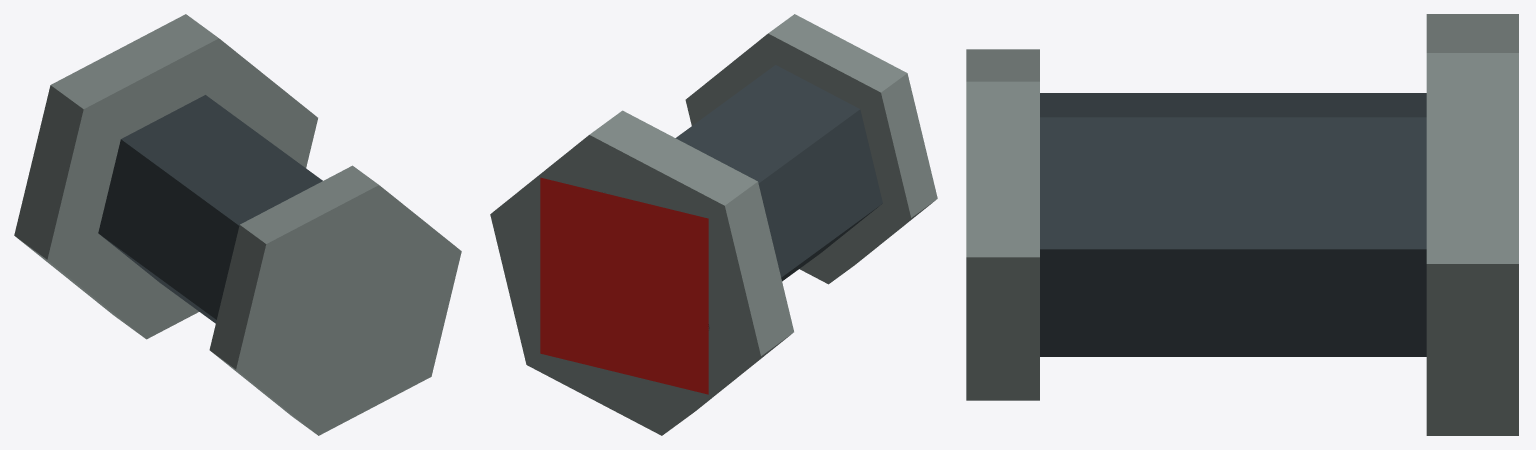
3 views of the same model, side by side, from view 1: azimuth 30°, elevation 25°; view 2: azimuth 150°, elevation 25°; view 3: azimuth 270°, elevation 25° (orthographic). The views are drawn at different scales.
Visible parts, largest first — view 1: mount; view 2: mount; view 3: mount.
Part boxes in pixels (x1,y1,x2,y2): mount: (14,14,461,435); mount: (490,14,937,435); mount: (966,14,1518,435).
Size of the model in its own units: 4.52 by 4.52 by 5.79.
